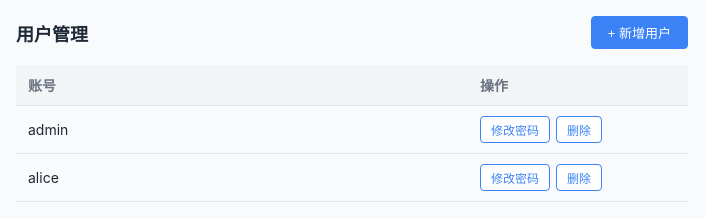
Users - 删除用户 › 点删除按钮 → 出现 inline 确认(确认/取消),点取消确认消失 + 不发请求
Check: the row with test id "user-row-alice" is shown, box [16,154,688,202]
Click the button with test id "delete-user-alice". click: click(579, 178)
box: [556,164,602,191]
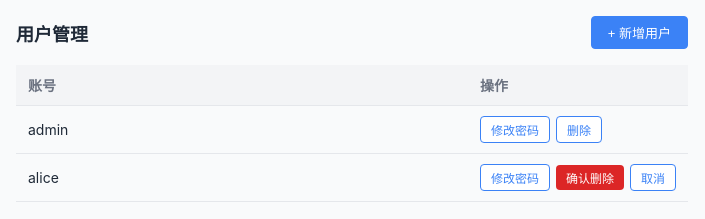
Check: the button with test id "delete-confirm-alice" is shown, box [556,165,624,190]
Check: the button with test id "delete-cancel-alice" is shown
Check: the button with test id "delete-user-alice" is gone
Click the button with test id "delete-cancel-alice". click: click(653, 178)
box: [630,164,676,191]
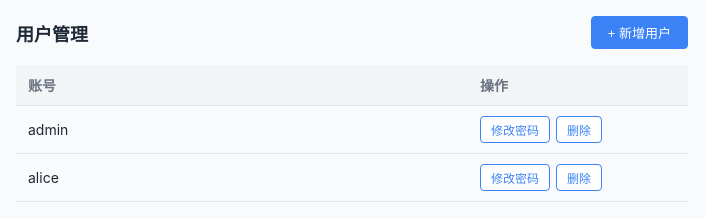
Check: the button with test id "delete-user-alice" is shown, box [556,164,602,191]
Check: the button with test id "delete-confirm-alice" is gone
